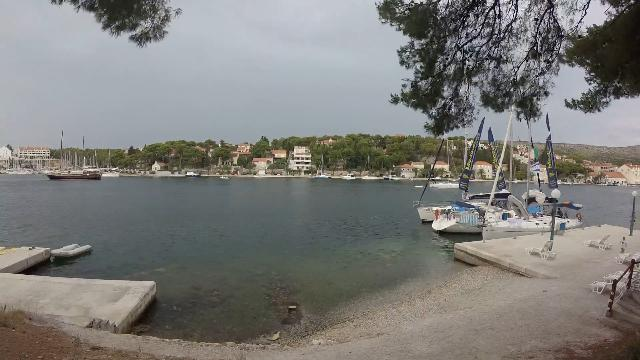Freighter: (37, 165, 107, 185)
